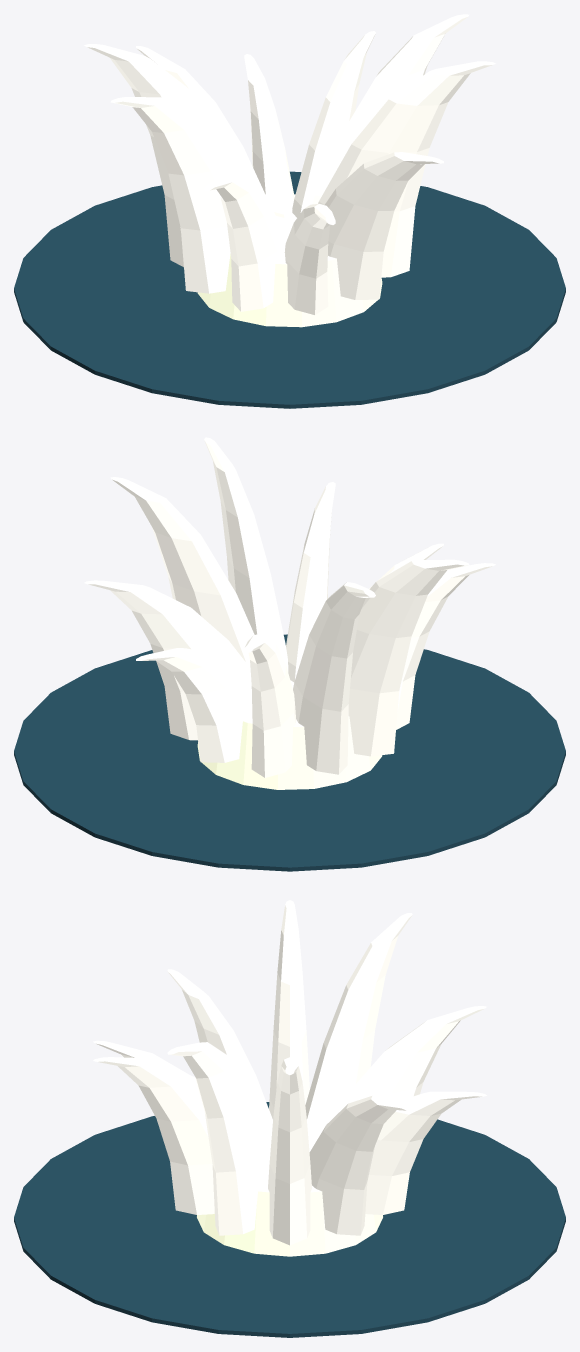
Rendered from artscience-museum.glb.
The picture shows the model from 3 angles, top to bottom: view 1: azimuth 30°, elevation 25°; view 2: azimuth 150°, elevation 25°; view 3: azimuth 270°, elevation 25°; orthographic projection.
Parts seen in each view (by area): view 1: pond, petals, core; view 2: pond, petals, core; view 3: pond, petals, core.
Part boxes in pixels (x1,y1,x2,y2): pond: [14, 171, 565, 408]; petals: [84, 14, 495, 314]; core: [197, 194, 382, 327]; pond: [14, 634, 565, 871]; petals: [84, 437, 495, 777]; core: [197, 680, 382, 789]; pond: [14, 1102, 565, 1337]; petals: [93, 900, 486, 1245]; core: [197, 1151, 382, 1256].
Size of the model in its own units: 124 by 58.88 by 124.
